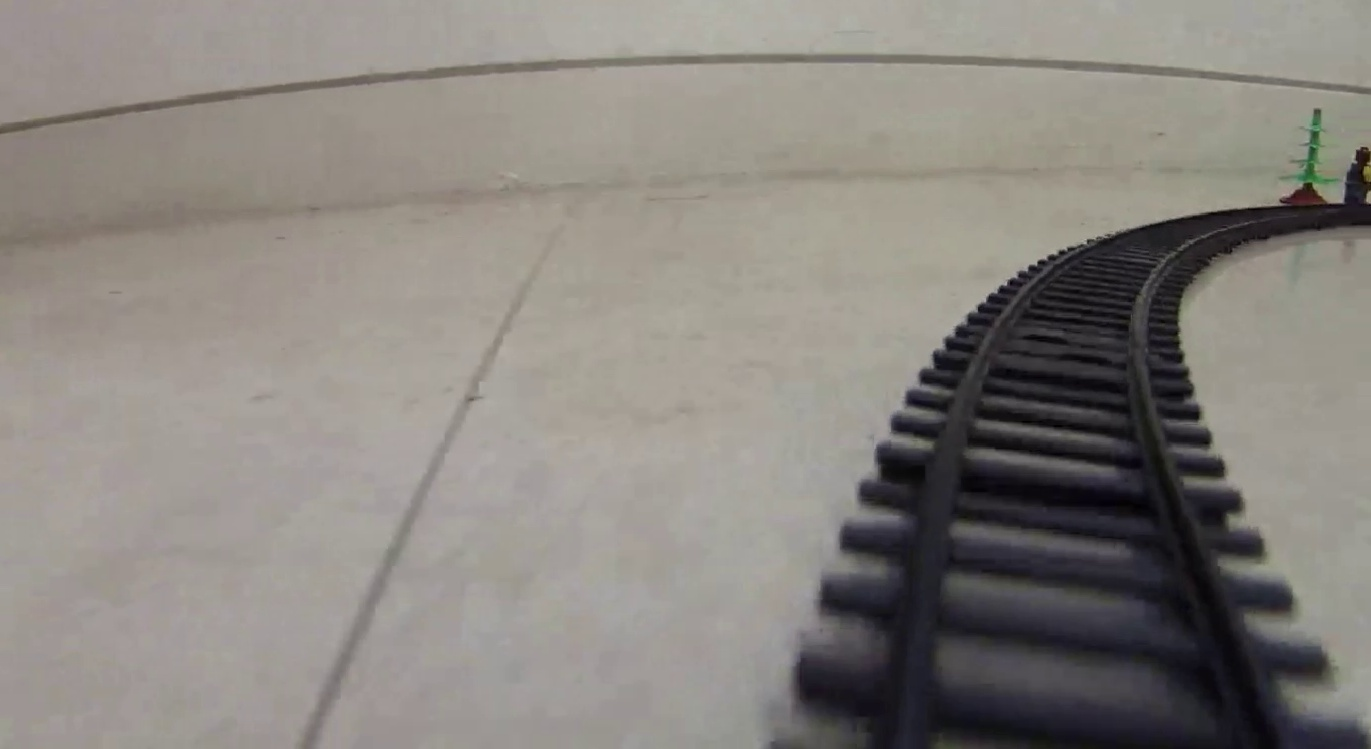tree: (1279, 108, 1334, 202)
